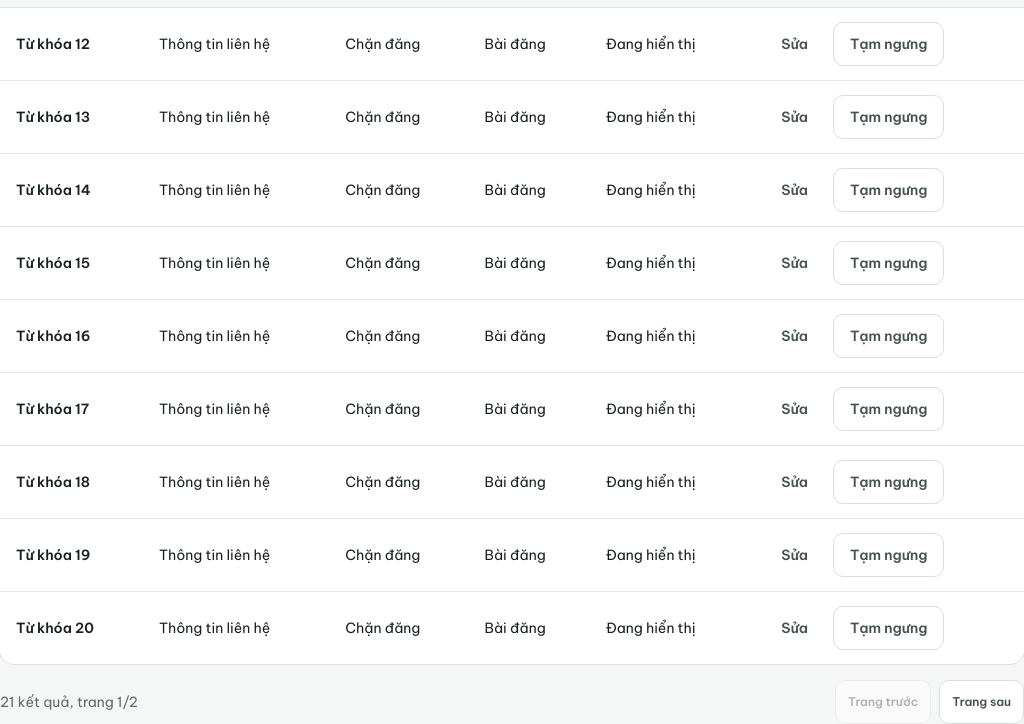
Test: Từ khóa kiểm duyệt › hiện 20 dòng mỗi trang và giữ trang hiện tại sau khi tạm ngưng hoặc sửa
The image size is (1024, 724).
(page scrolled)
Check: the text "Từ khóa 21" is not shown
Click the button "Trang sau". click: (982, 702)
box: [939,680,1023,723]
(page scrolled)
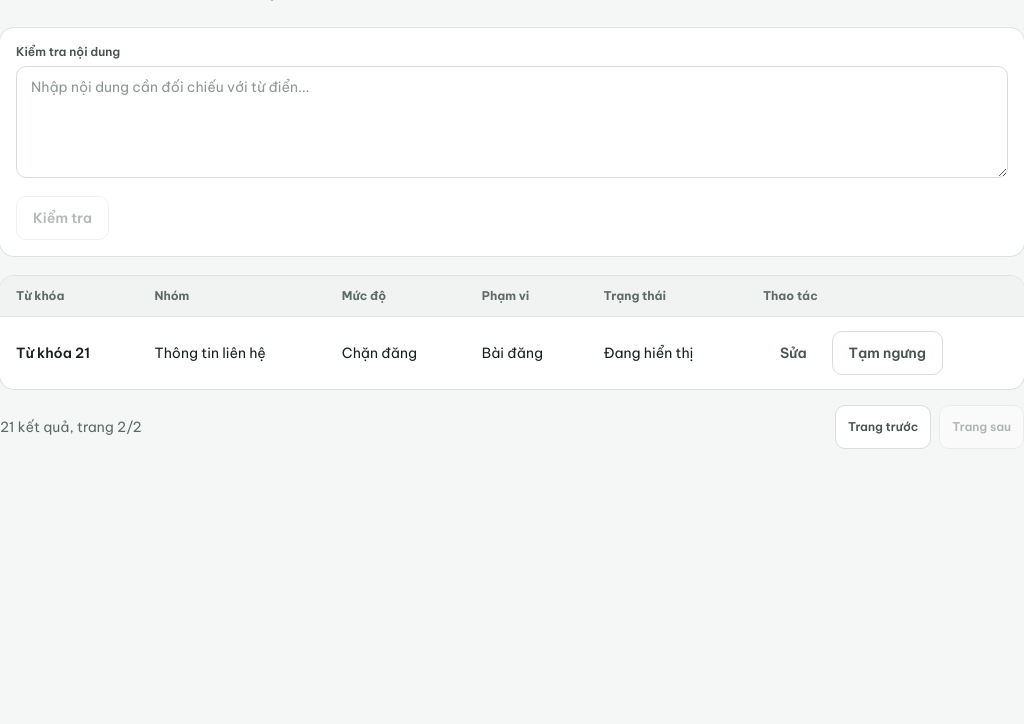
Check: the text "Từ khóa 21" is shown, box [0,316,139,389]
Check: the text "21 kết quả, trang 2/2" is shown, box [0,417,142,437]
Click the button "Tạm ngưng". click: (887, 353)
box: [832,331,943,375]
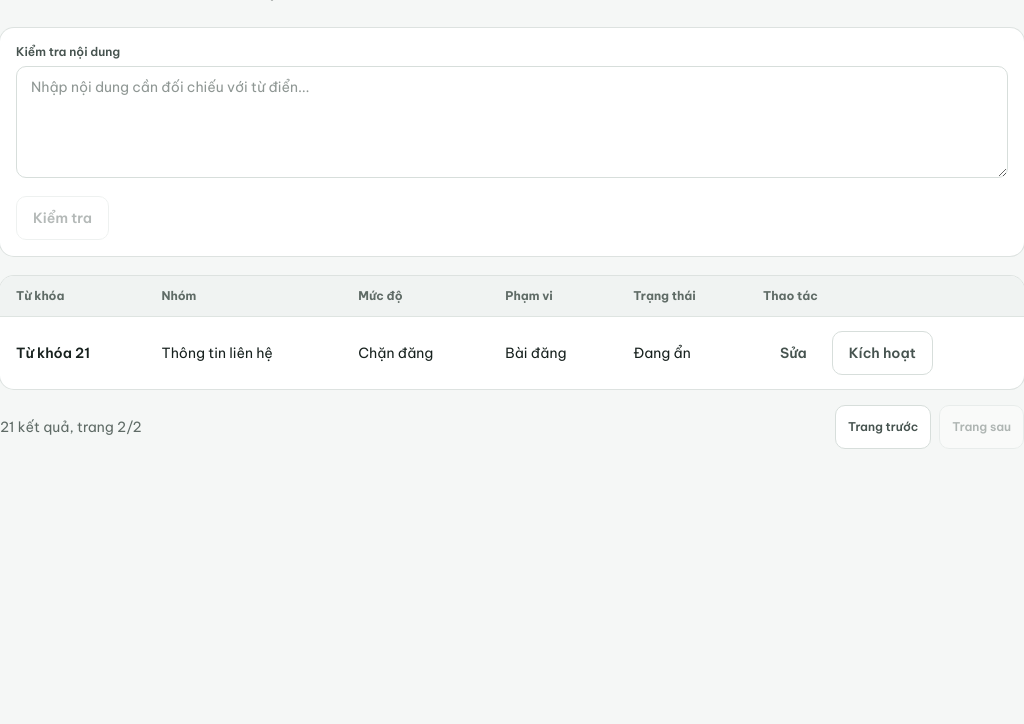
Check: the text "21 kết quả, trang 2/2" is shown, box [0,417,142,437]
Check: the text "Đang ẩn" is shown, box [617,316,747,389]
Click the button "Sửa". click: (793, 353)
box: [763,331,824,375]
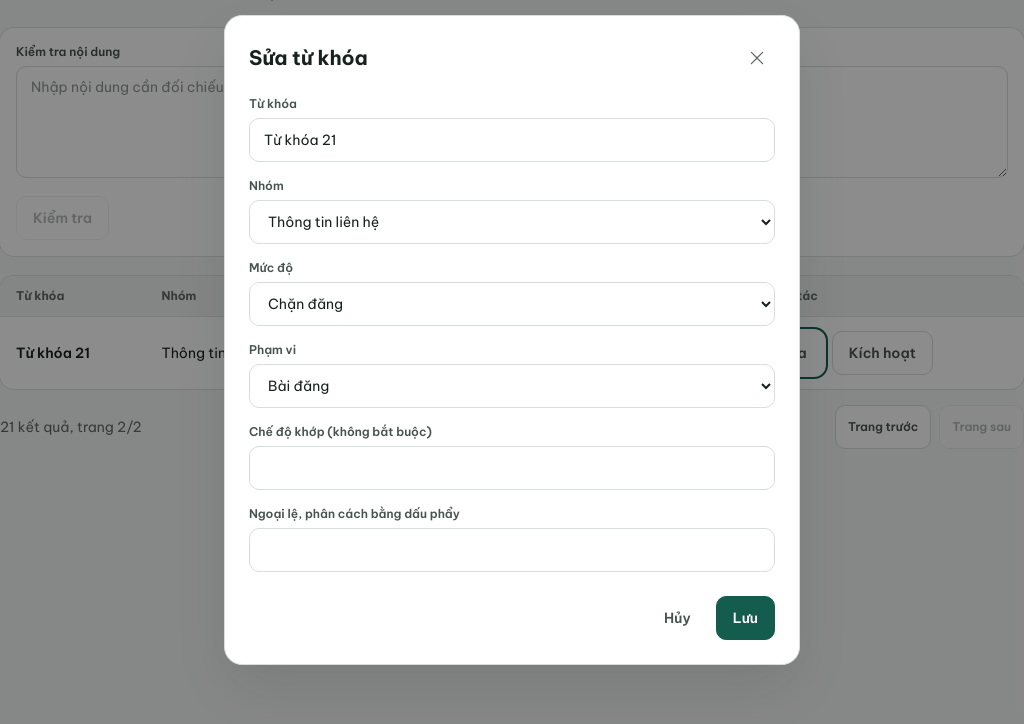
Replace the text in the field labelled "Từ khóa" with "Từ khóa đã sửa". click: (512, 140)
box: [249,118,775,162]
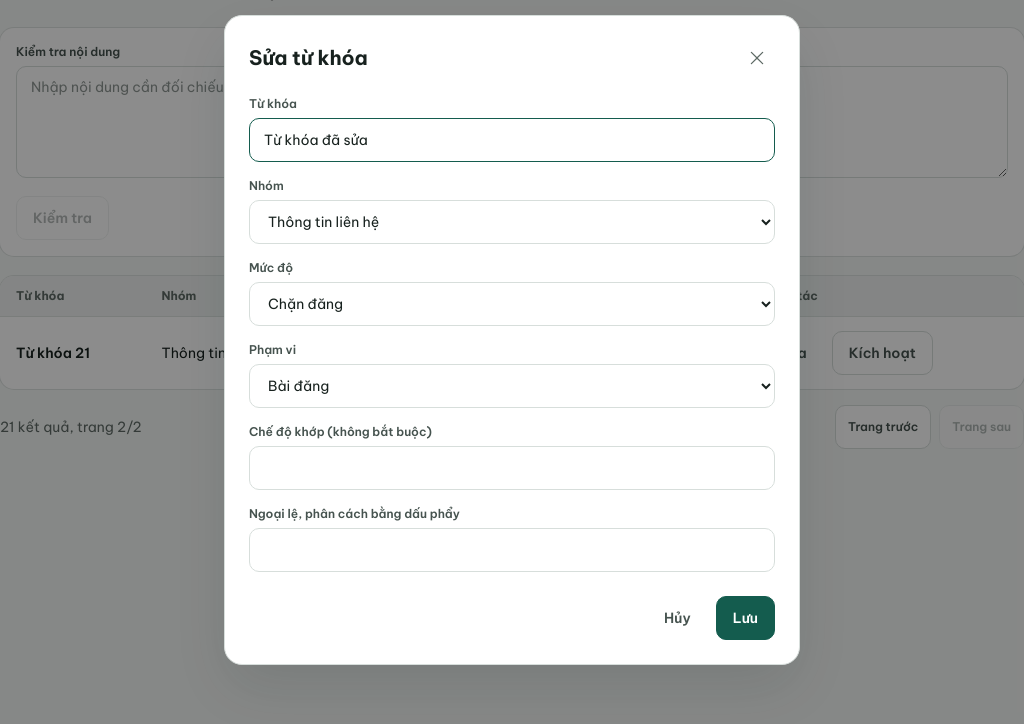
Click the button "Lưu". click: (745, 618)
box: [716,596,775,640]
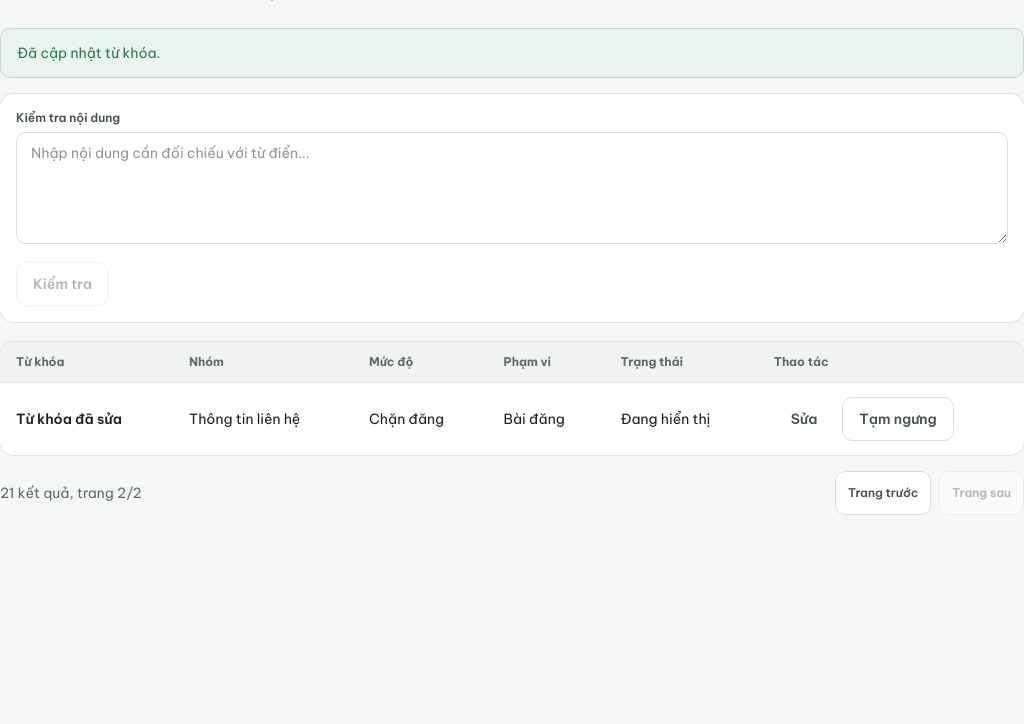
Check: the text "21 kết quả, trang 2/2" is shown, box [0,483,142,503]
Check: the text "Từ khóa đã sửa" is shown, box [0,382,173,455]
